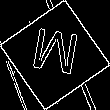M_S: (28, 26, 82, 84)
